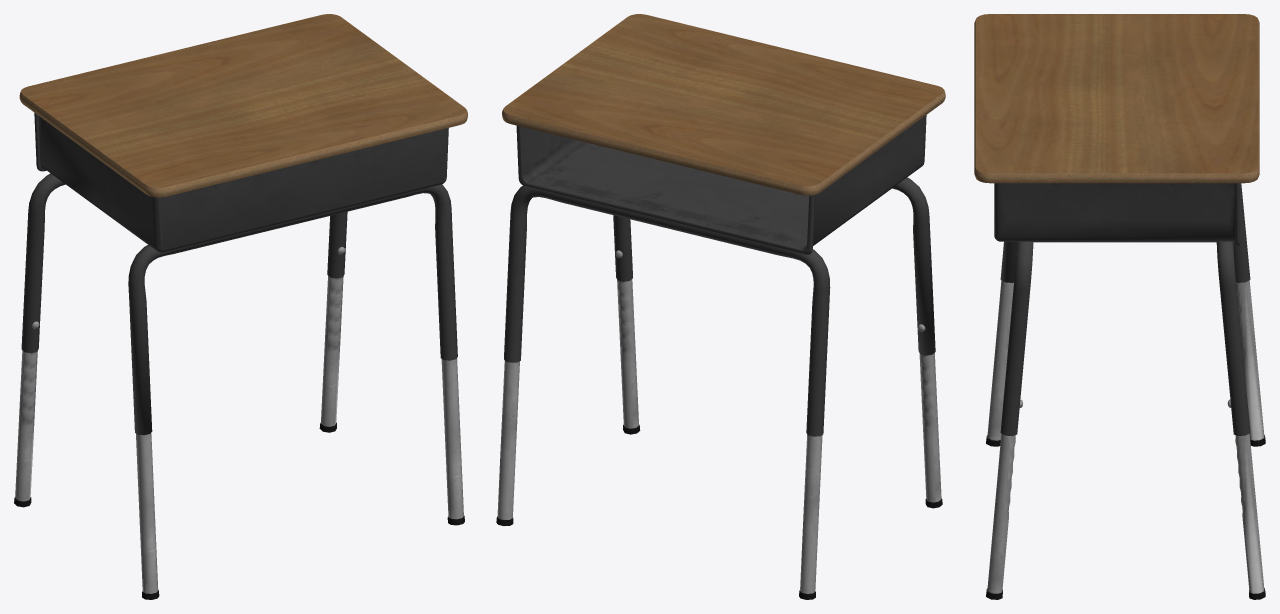
Rendered from SchoolDesk_01.fbx.
3 views of the same model, side by side, from view 1: azimuth 30°, elevation 25°; view 2: azimuth 150°, elevation 25°; view 3: azimuth 270°, elevation 25° (orthographic). The views are drawn at different scales.
Visible parts, largest first — view 1: SchoolDesk_01_LOD0; view 2: SchoolDesk_01_LOD0; view 3: SchoolDesk_01_LOD0.
Boxes of the visible parts, <box> form: SchoolDesk_01_LOD0: <box>14,14,467,599</box>; SchoolDesk_01_LOD0: <box>496,14,945,599</box>; SchoolDesk_01_LOD0: <box>974,14,1265,599</box>.
Size of what is drawn, in the model's own units: 71.18 by 88.26 by 54.6.
1 material, 1 textured.
